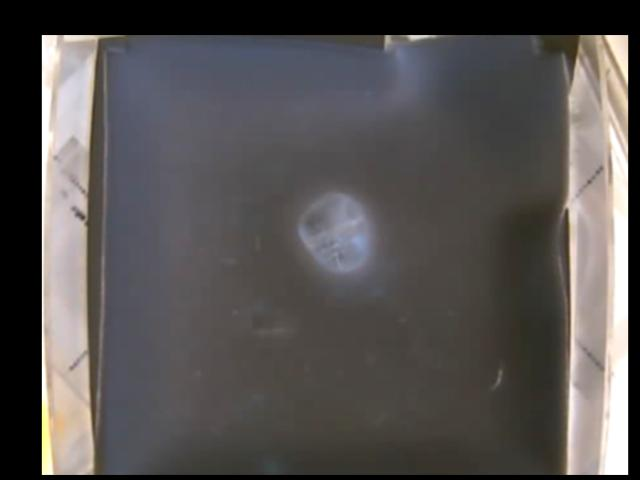Pebble: (298, 191, 368, 269)
